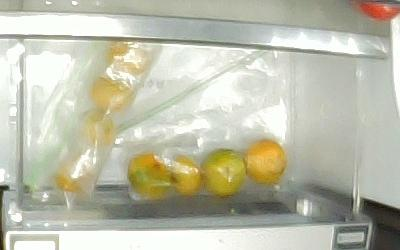tangerine_vinyl: (200, 149, 245, 198), (127, 153, 170, 200), (244, 139, 285, 185), (90, 76, 135, 111), (107, 43, 149, 73), (169, 154, 199, 196), (54, 160, 92, 192), (80, 112, 115, 146)
